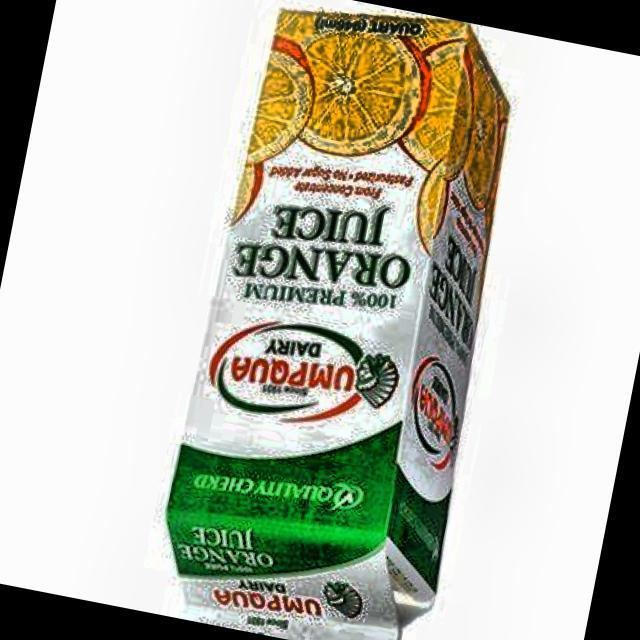cardboard: (145, 0, 545, 640)
